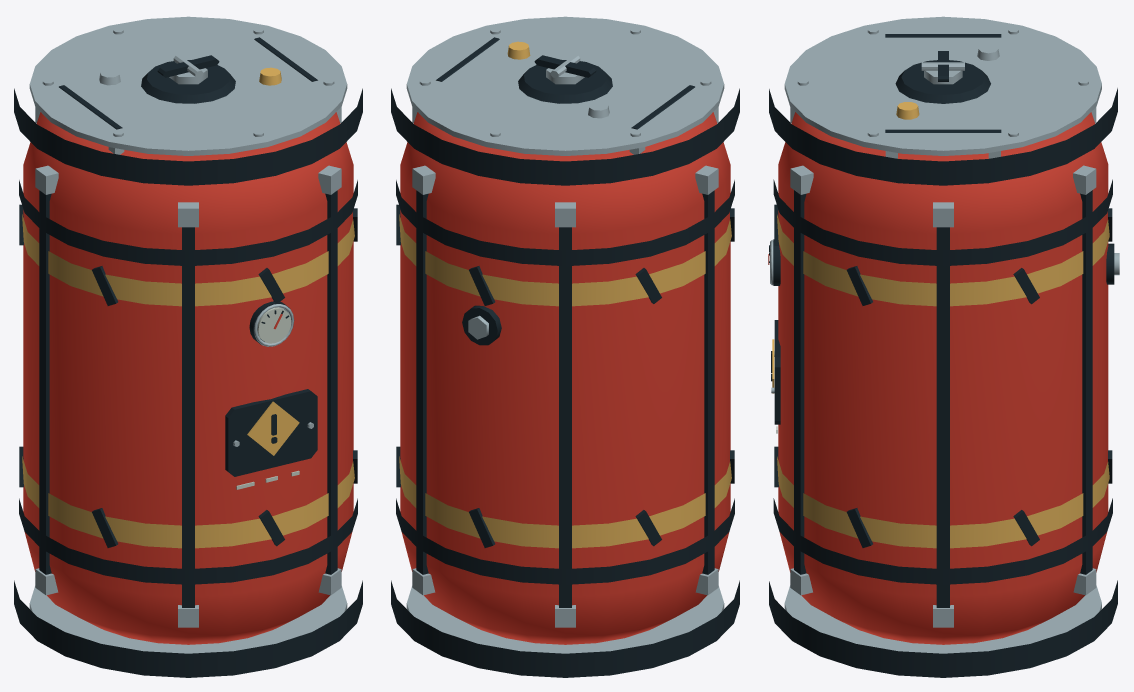
Rendered from explosive-barrel-b01.glb.
The picture shows the model from 3 angles, left to right: view 1: azimuth 30°, elevation 25°; view 2: azimuth 150°, elevation 25°; view 3: azimuth 270°, elevation 25°; orthographic projection.
Visible parts, largest first — view 1: B01_PressureVessel_Surface, B01_CompressionFrame_Surface, B01_MachinedHardware_Surface, B01_HazardPaint_Surface, B01_CeramicIdentification_Surface; view 2: B01_PressureVessel_Surface, B01_CompressionFrame_Surface, B01_MachinedHardware_Surface, B01_HazardPaint_Surface; view 3: B01_PressureVessel_Surface, B01_CompressionFrame_Surface, B01_MachinedHardware_Surface, B01_HazardPaint_Surface.
Part boxes in pixels (bbox=[...]): B01_PressureVessel_Surface: bbox=[23, 112, 353, 644]; B01_CompressionFrame_Surface: bbox=[14, 37, 362, 677]; B01_MachinedHardware_Surface: bbox=[29, 16, 347, 653]; B01_HazardPaint_Surface: bbox=[22, 67, 354, 548]; B01_CeramicIdentification_Surface: bbox=[236, 307, 299, 489]; B01_PressureVessel_Surface: bbox=[400, 112, 730, 644]; B01_CompressionFrame_Surface: bbox=[391, 37, 739, 677]; B01_MachinedHardware_Surface: bbox=[406, 16, 724, 653]; B01_HazardPaint_Surface: bbox=[399, 41, 731, 548]; B01_PressureVessel_Surface: bbox=[768, 112, 1108, 644]; B01_CompressionFrame_Surface: bbox=[769, 34, 1117, 677]; B01_MachinedHardware_Surface: bbox=[770, 16, 1119, 653]; B01_HazardPaint_Surface: bbox=[772, 102, 1109, 548].
Bounding box in the file's own units: 1.08 × 1.87 × 1.09.
